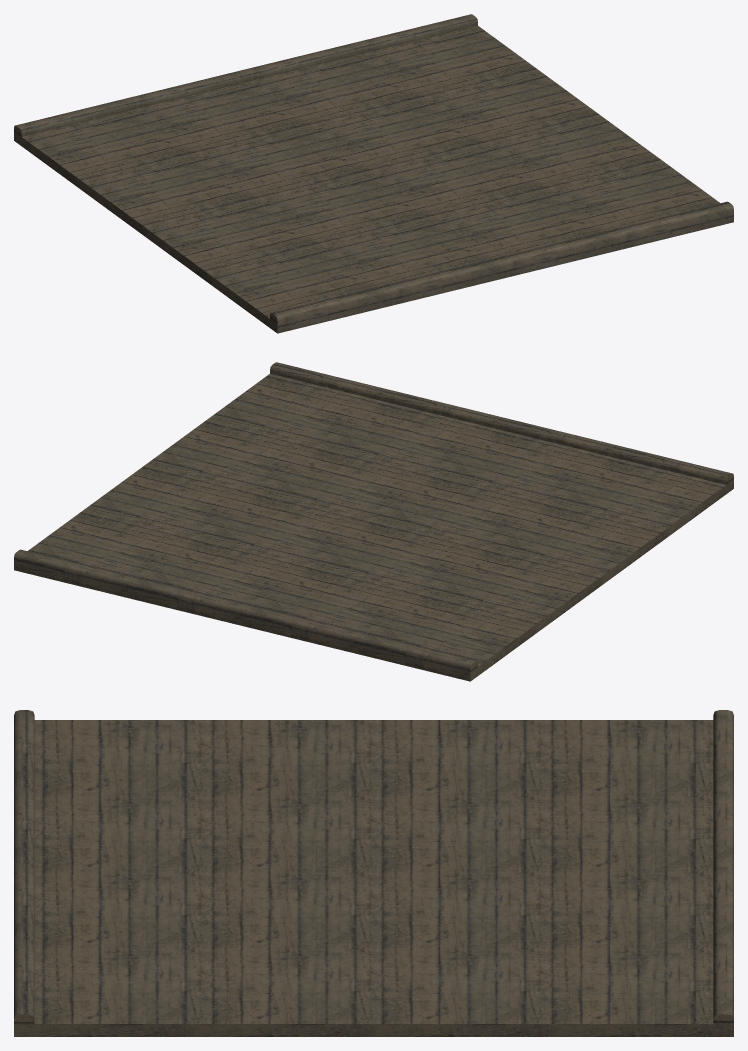
Rendered from Kit_WoodGround.fbx.
The picture shows the model from 3 angles, top to bottom: view 1: azimuth 30°, elevation 25°; view 2: azimuth 150°, elevation 25°; view 3: azimuth 270°, elevation 25°; orthographic projection. The views are drawn at different scales.
Parts seen in each view (by area): view 1: Kit_WoodGround; view 2: Kit_WoodGround; view 3: Kit_WoodGround.
Boxes of the visible parts, x1=… form: Kit_WoodGround: x1=14, y1=14, x2=733, y2=333; Kit_WoodGround: x1=14, y1=362, x2=733, y2=681; Kit_WoodGround: x1=14, y1=710, x2=733, y2=1036.
Bounding box in the file's own units: 157 × 5.4 × 157.
